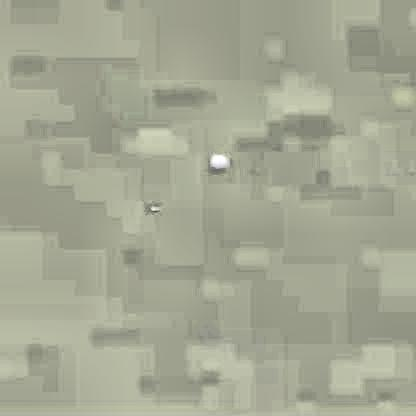golfball: (206, 150, 226, 170)
